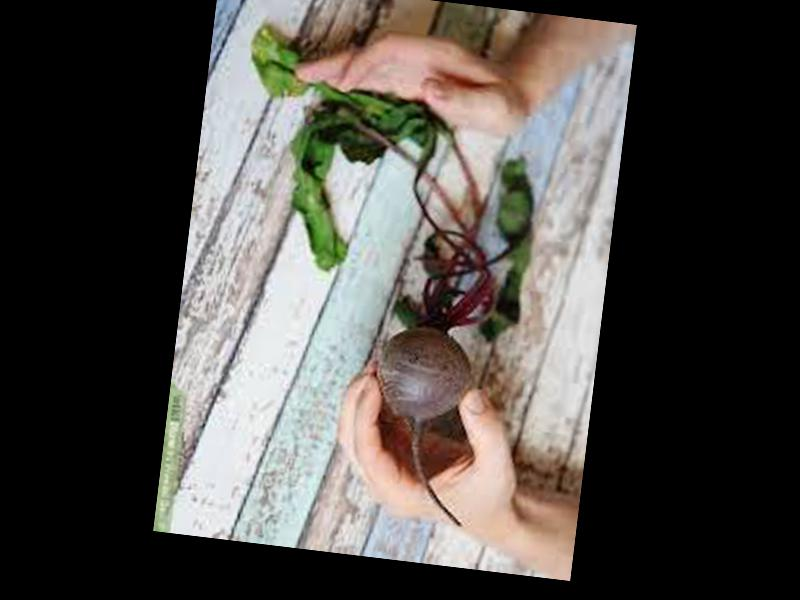Beet: (198, 25, 551, 530)
